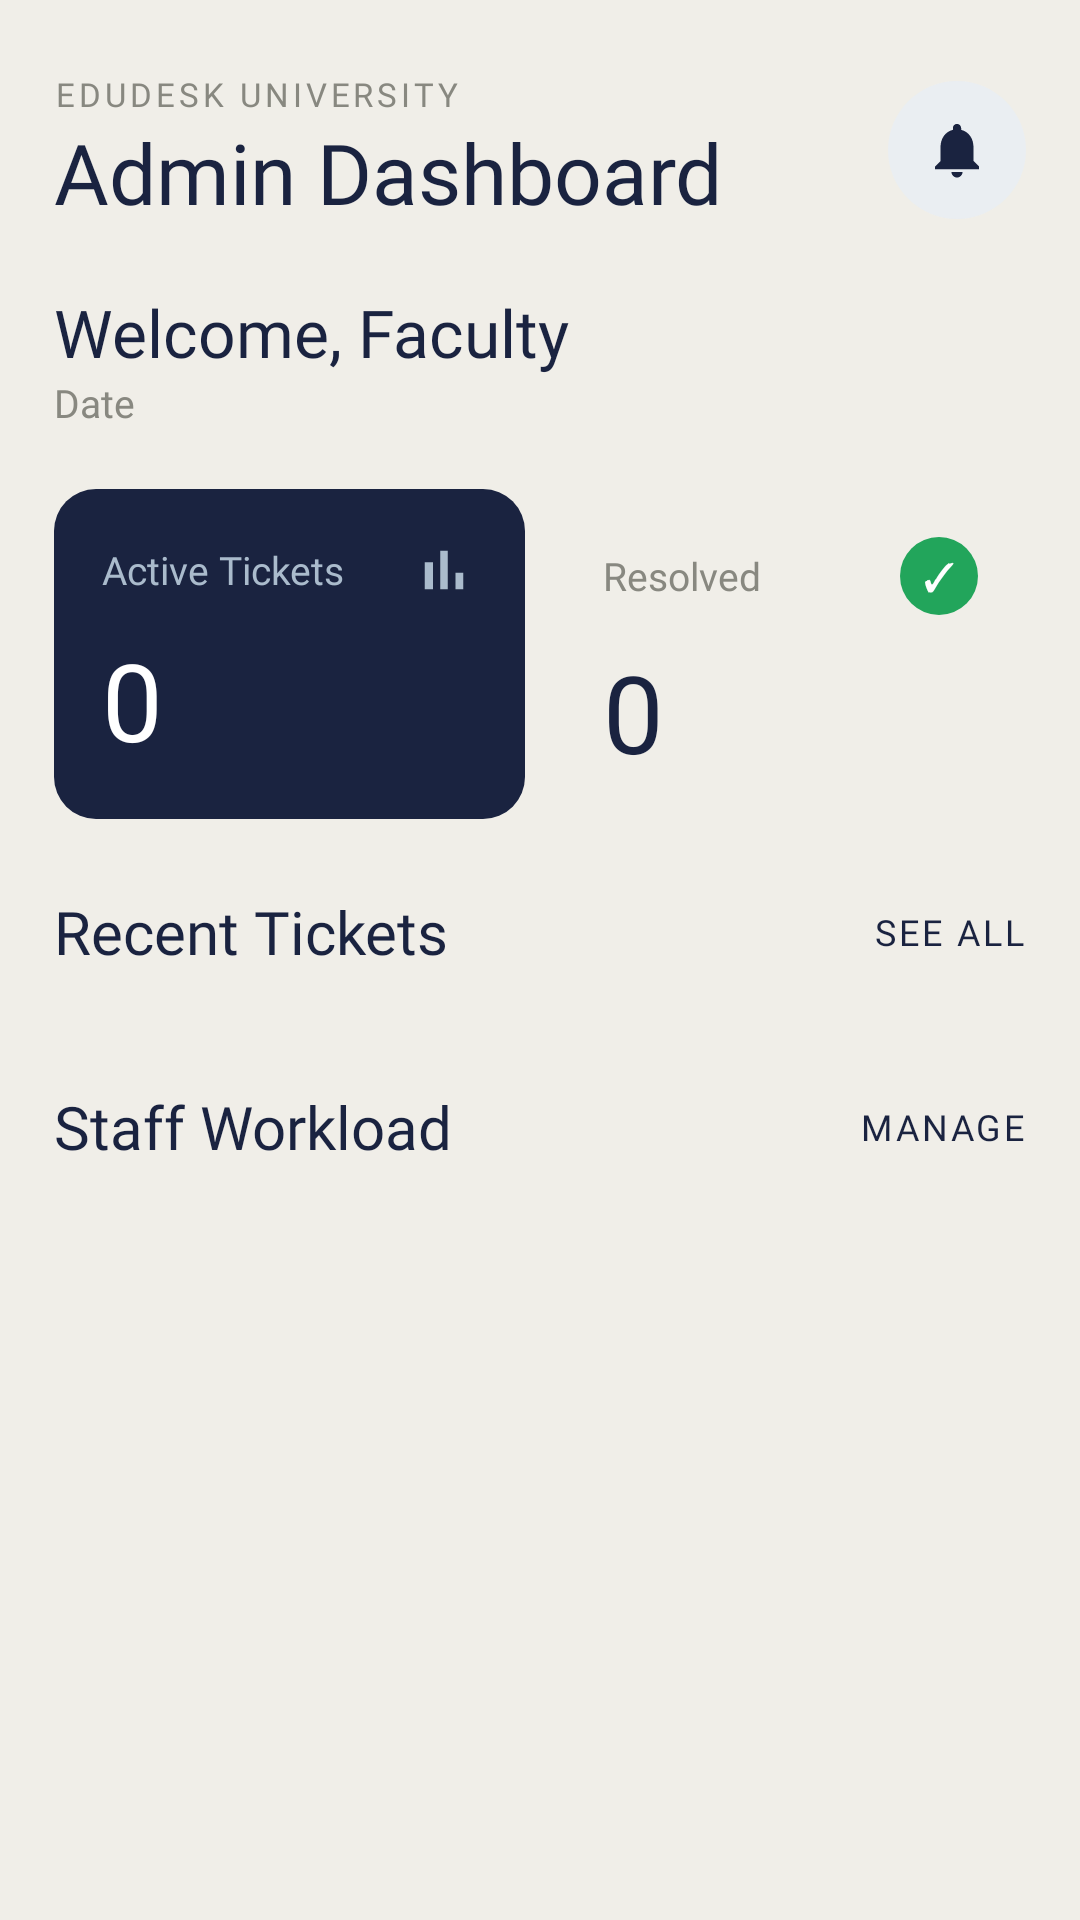

Icons on this 1080px x 1920px Android screen, each with its box as (x1, y1, x2, y2):
chart: (424, 550, 464, 590)
notification: (935, 124, 979, 178)
